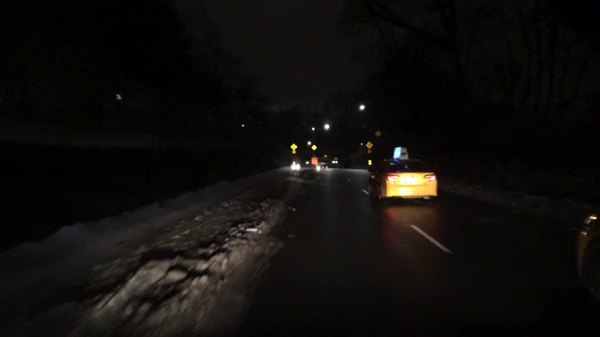car: (367, 146, 438, 205), (573, 207, 599, 298), (291, 160, 301, 171), (322, 164, 330, 169)
traffic sign: (365, 142, 373, 153), (291, 145, 298, 154), (311, 157, 318, 165), (374, 131, 381, 138), (311, 145, 317, 151), (333, 155, 338, 162), (323, 154, 328, 159)
